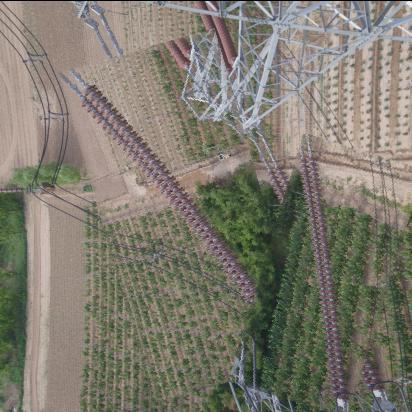insulator: (82, 35, 288, 395), (247, 140, 408, 412)
